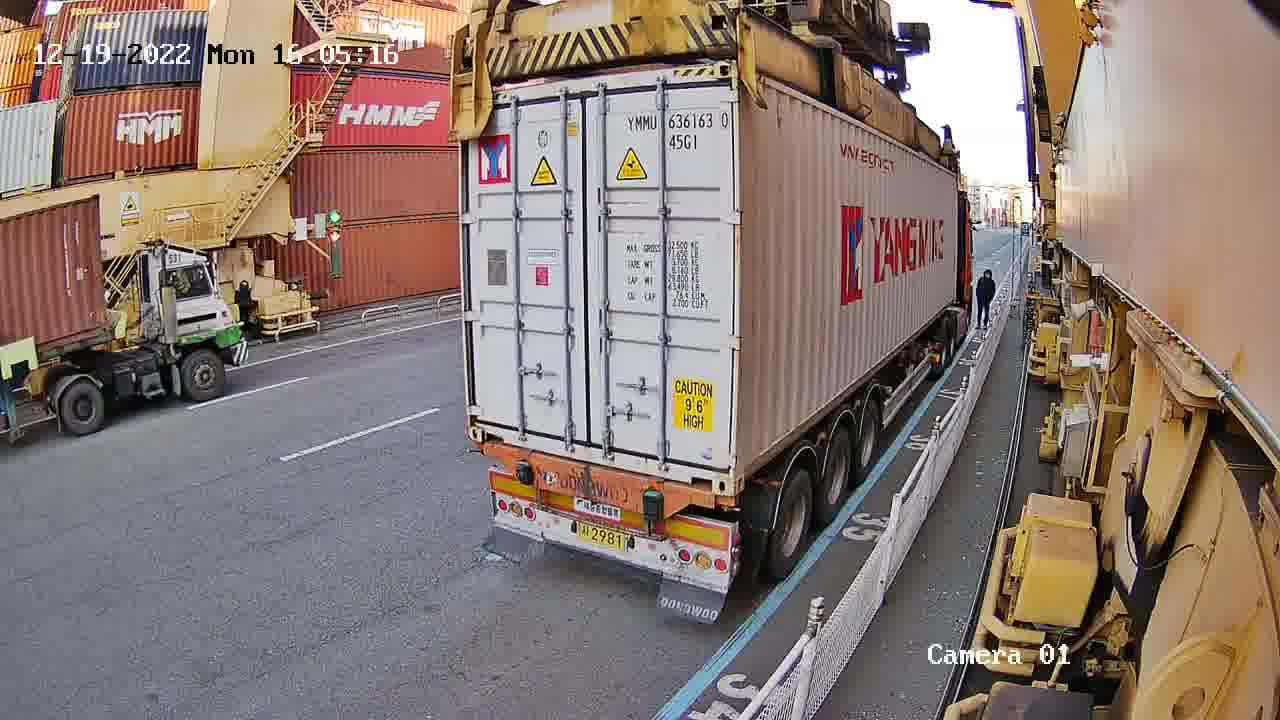Chassis: (473, 445, 731, 517)
Cone: (719, 497, 737, 514)
Hole_L: (733, 432, 763, 494), (463, 399, 502, 446)
Hole_R: (684, 443, 734, 496)
Tire: (769, 473, 813, 575), (820, 428, 851, 516), (857, 402, 880, 476)
